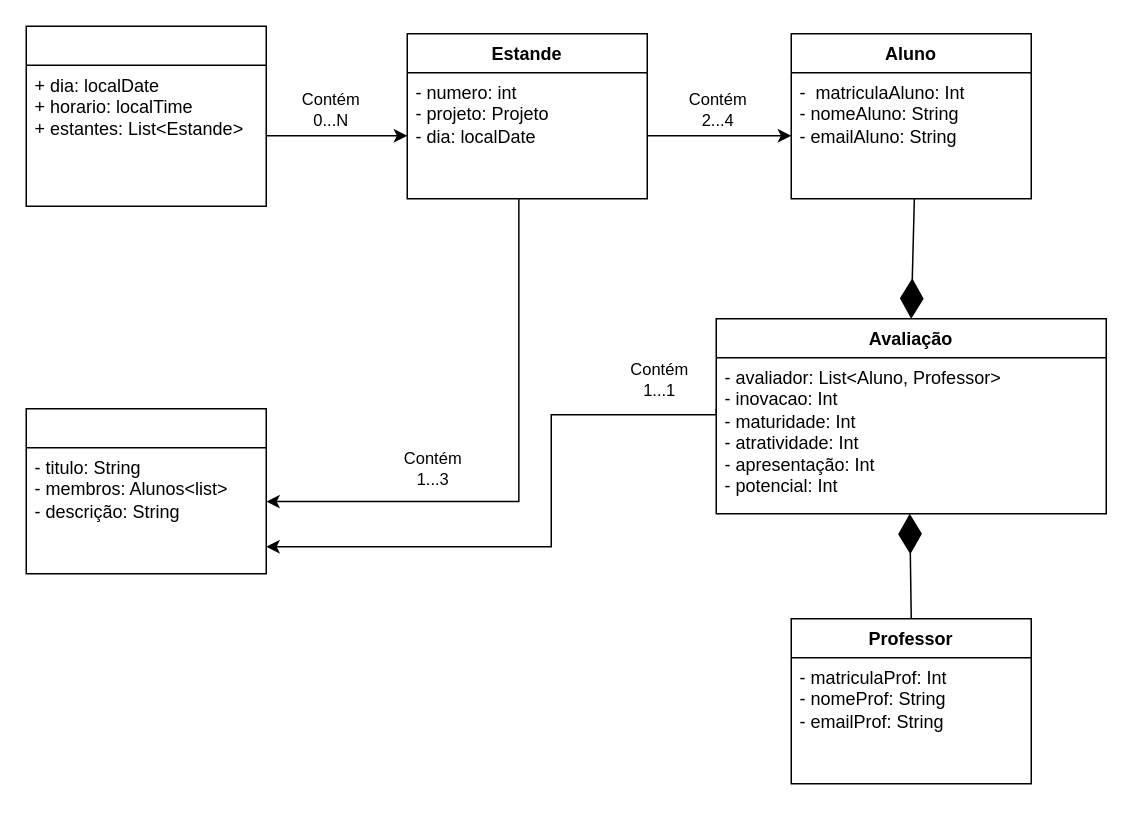
Image size: 1133x815. Some labels were removed from this diagram. Each missing label, with the box of its shape:
Grupo: (25, 407, 266, 574)
Inovaweek: (25, 25, 266, 206)
